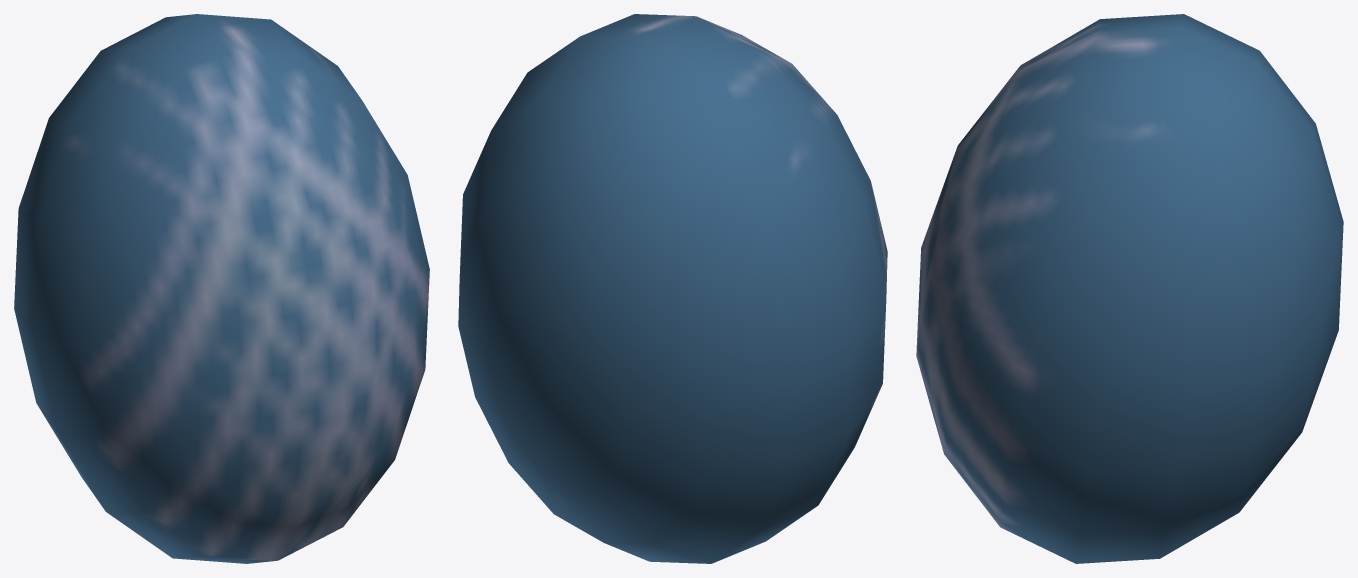
Rendered from eye.obj.
3 views of the same model, side by side, from view 1: azimuth 30°, elevation 25°; view 2: azimuth 150°, elevation 25°; view 3: azimuth 270°, elevation 25° (orthographic). The views are drawn at different scales.
Parts seen in each view (by area): view 1: Circus_Tent0_Eyeball_L_0; view 2: Circus_Tent0_Eyeball_L_0; view 3: Circus_Tent0_Eyeball_L_0.
Boxes of the visible parts, left/top/right/bottom form: Circus_Tent0_Eyeball_L_0: left=14, top=14, right=429, bottom=563; Circus_Tent0_Eyeball_L_0: left=458, top=14, right=887, bottom=563; Circus_Tent0_Eyeball_L_0: left=916, top=14, right=1343, bottom=563.
Size of the model in its own units: 4.03 by 5.48 by 4.06.
Materials: 1 (1 with a texture image).
